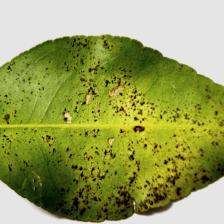canker: (36, 49, 197, 216)
